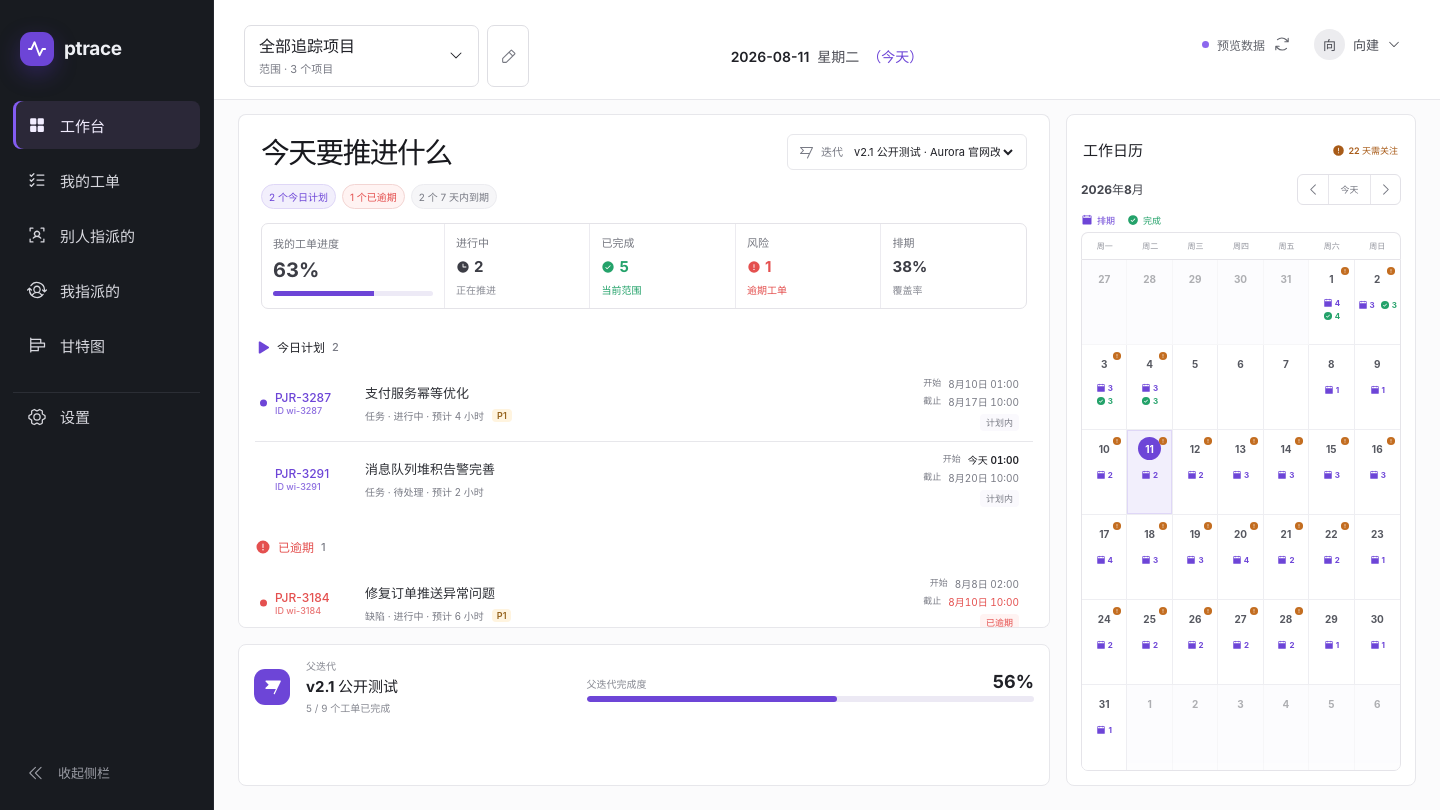
PtraceDesk core interactions › shows workitems created by the current identity and assigned to other people
Click the button "我的工单". click: x=106, y=180
box: [13,156,200,204]
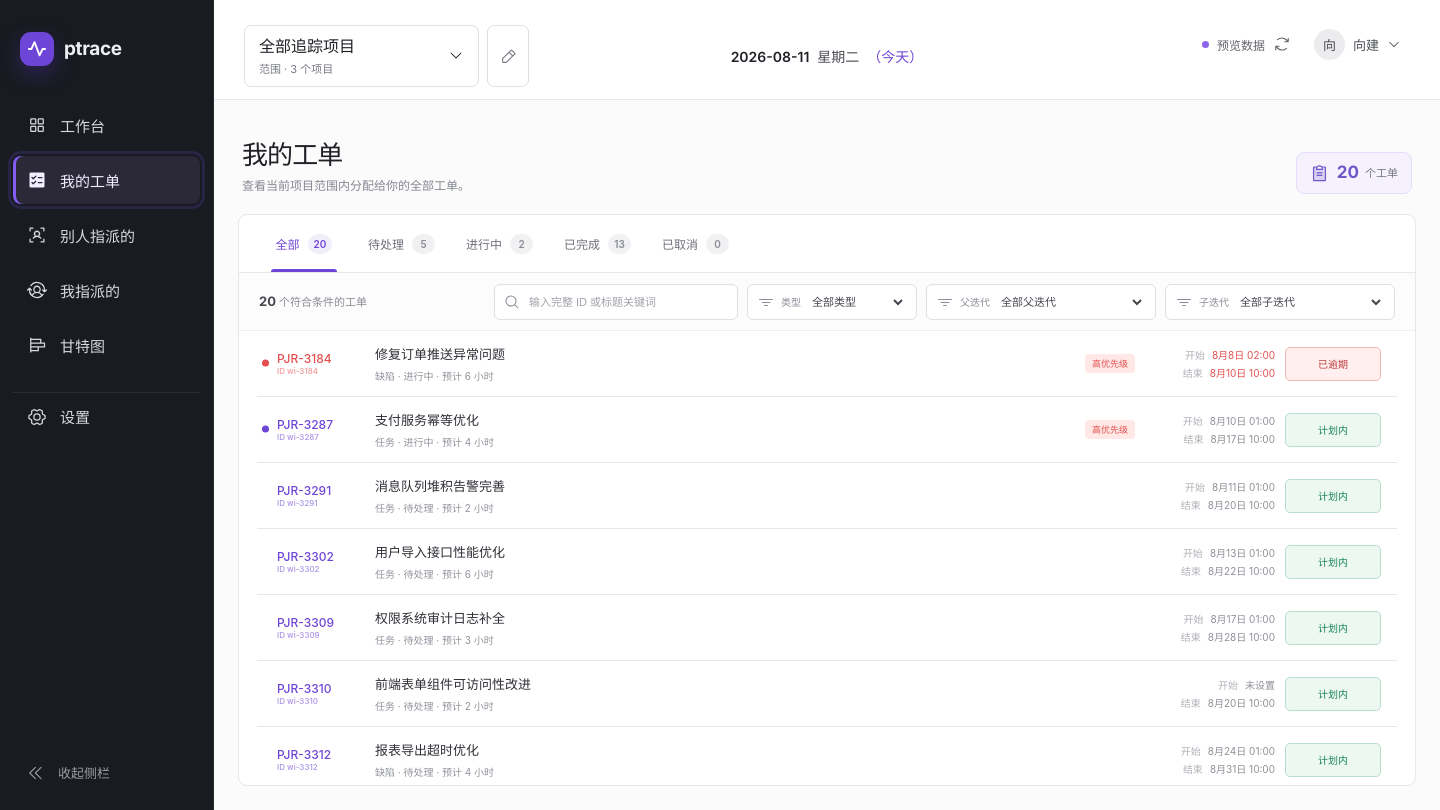
Type "队列堆积" into the search field named "搜索工单". click: x=628, y=302
box: [527,294,728,308]
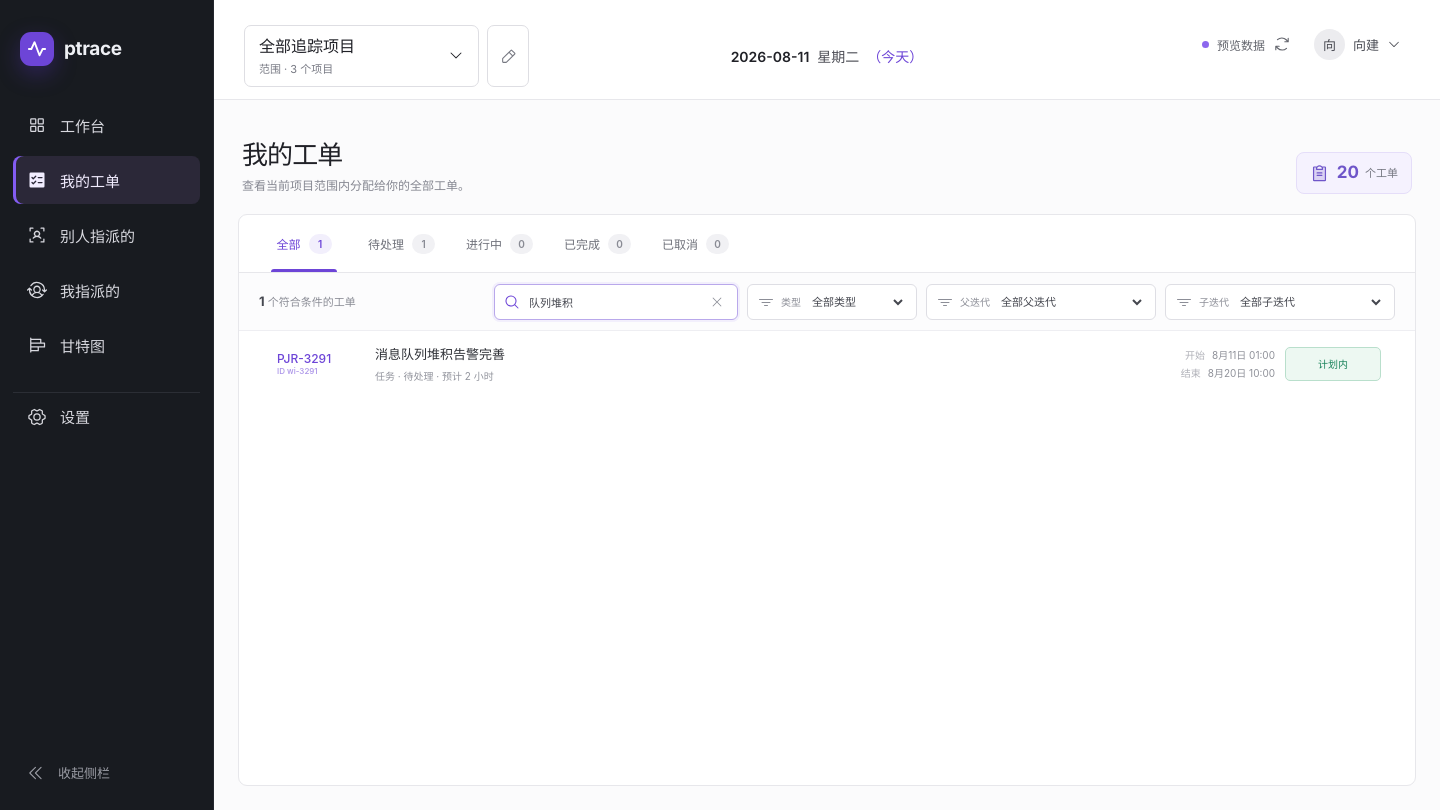
Click the button "我指派的". click: x=106, y=290
box: [13,266,200,314]
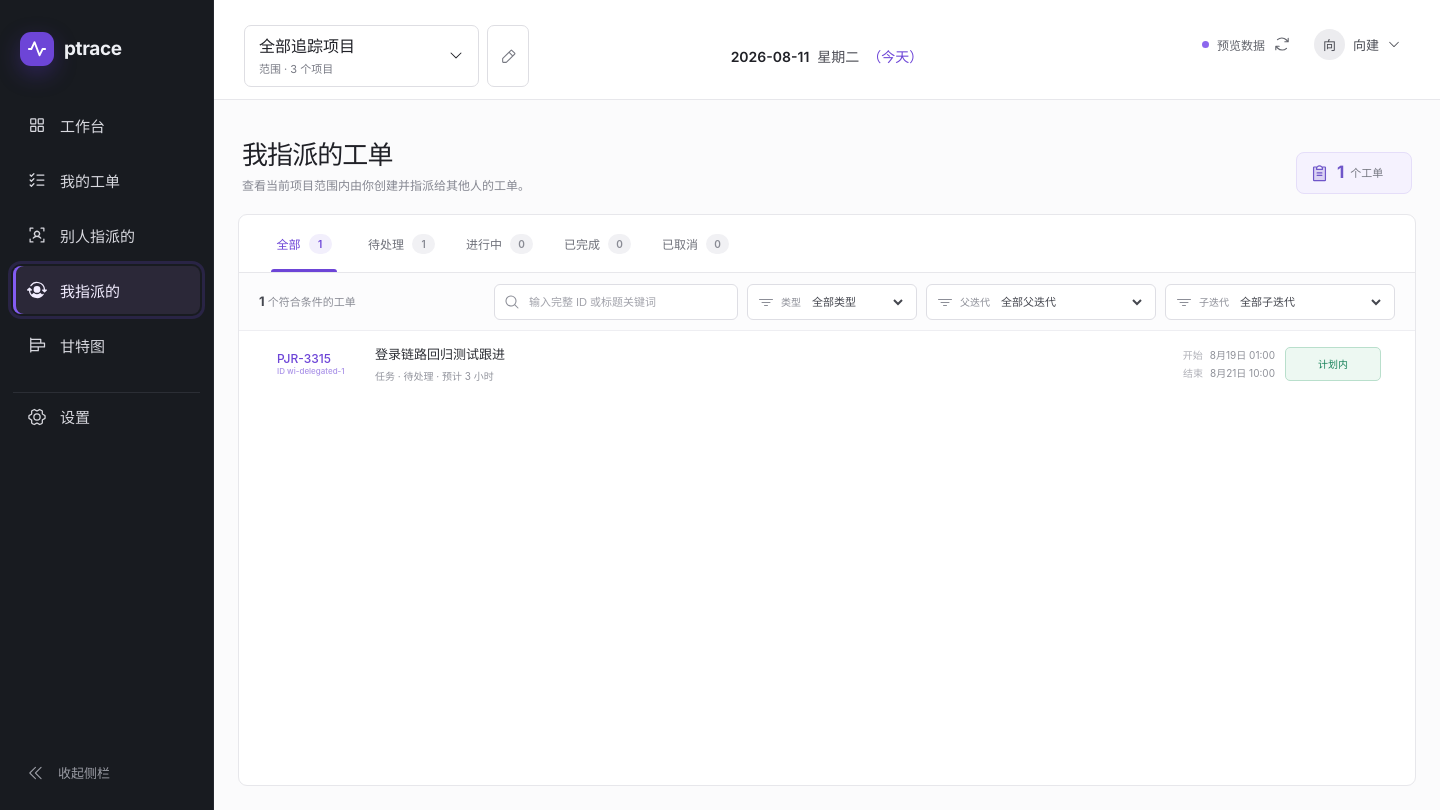
Expected: the tab "全部 1" is shown, [258,215,350,272]
Expected: the heading "我指派的工单" is shown, [242,140,392,171]
Expected: the text "查看当前项目范围内由你创建并指派给其他人的工单。" is shown, [242,177,530,194]
Select "任务" in the dropdown named "工单类型". click: x=857, y=302
box: [808,294,906,310]
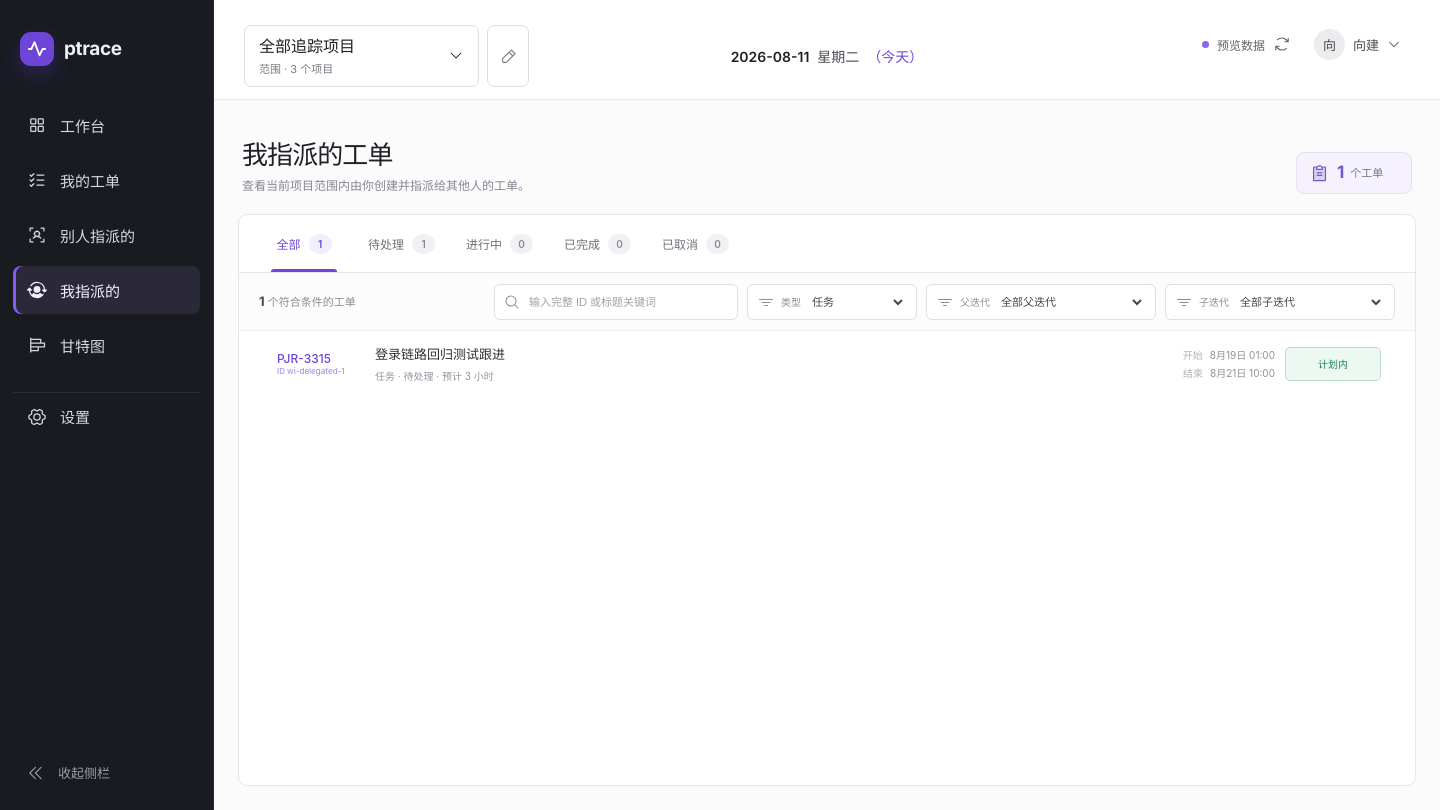
Type "回归测试" into the search field named "搜索工单". click: x=628, y=302
box: [527,294,728,308]
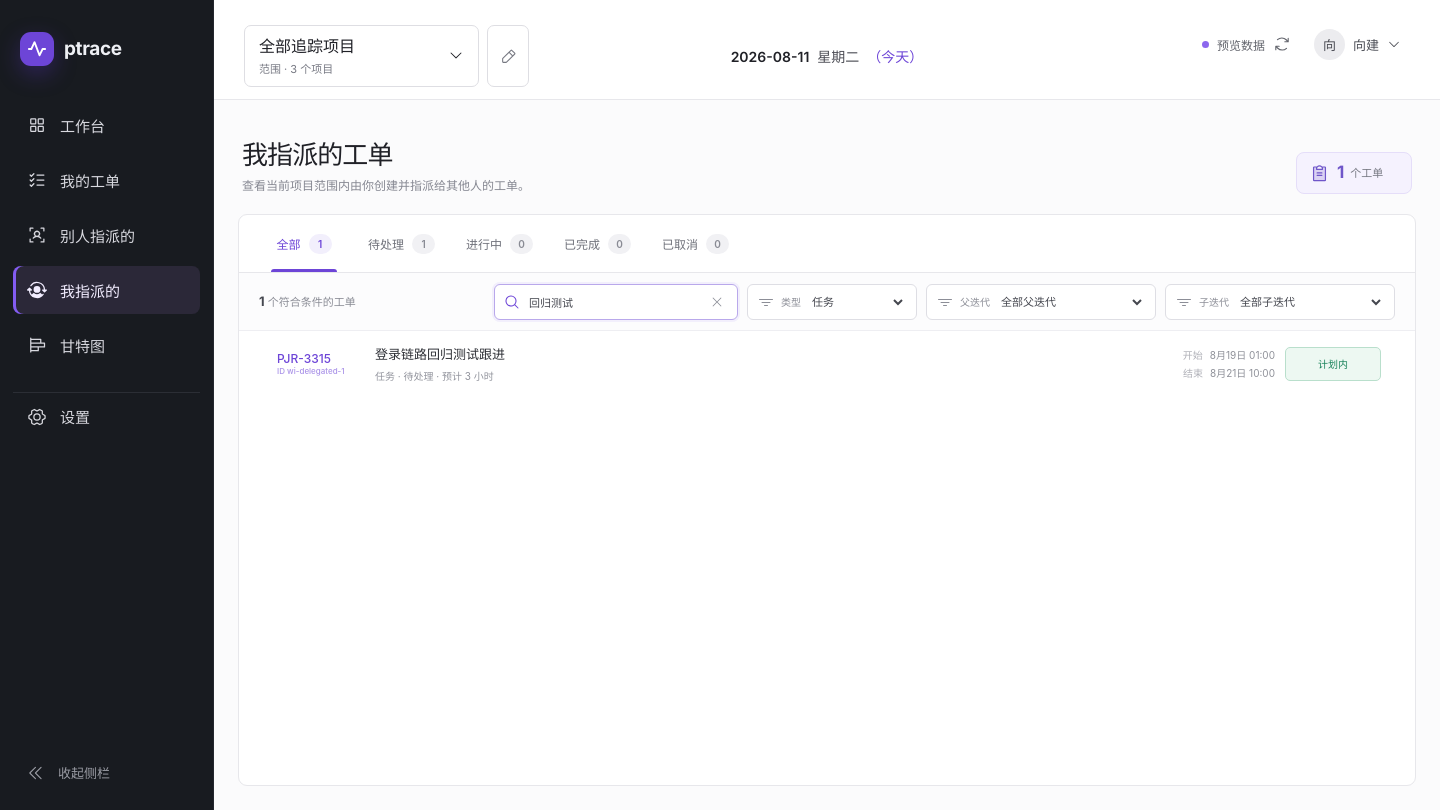
Expected: the text "登录链路回归测试跟进" is shown, [375,346,505,362]
Clear the search field named "搜索工单". click: x=613, y=302
box: [527,294,699,308]
Click the button with aria-label "PJR-3315 登录链路回归测试跟进，ID wi-delegated-1，查看详情". click: x=304, y=358
box: [257,331,1397,396]
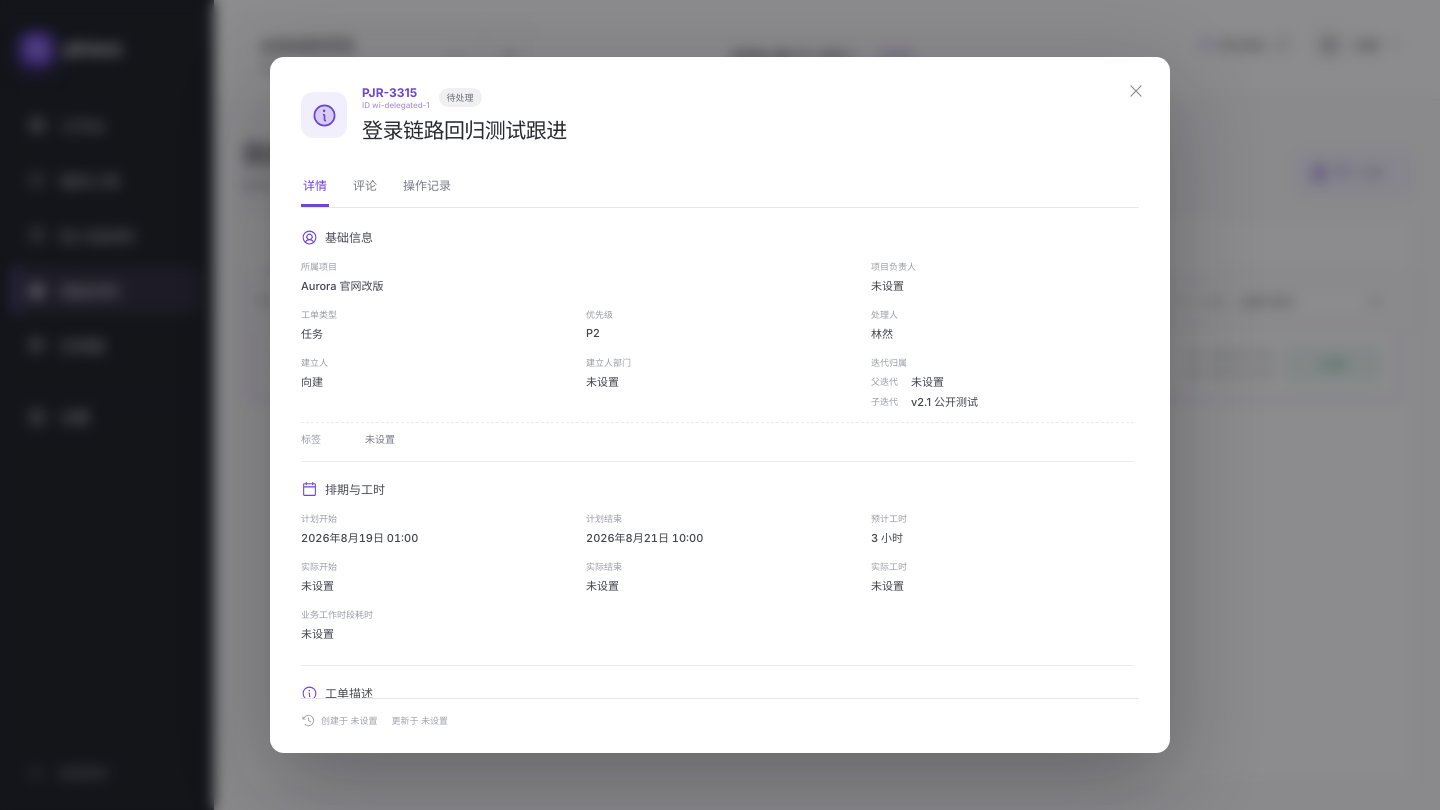
Expected: the text "林然" is shown, [871,327,893,341]
